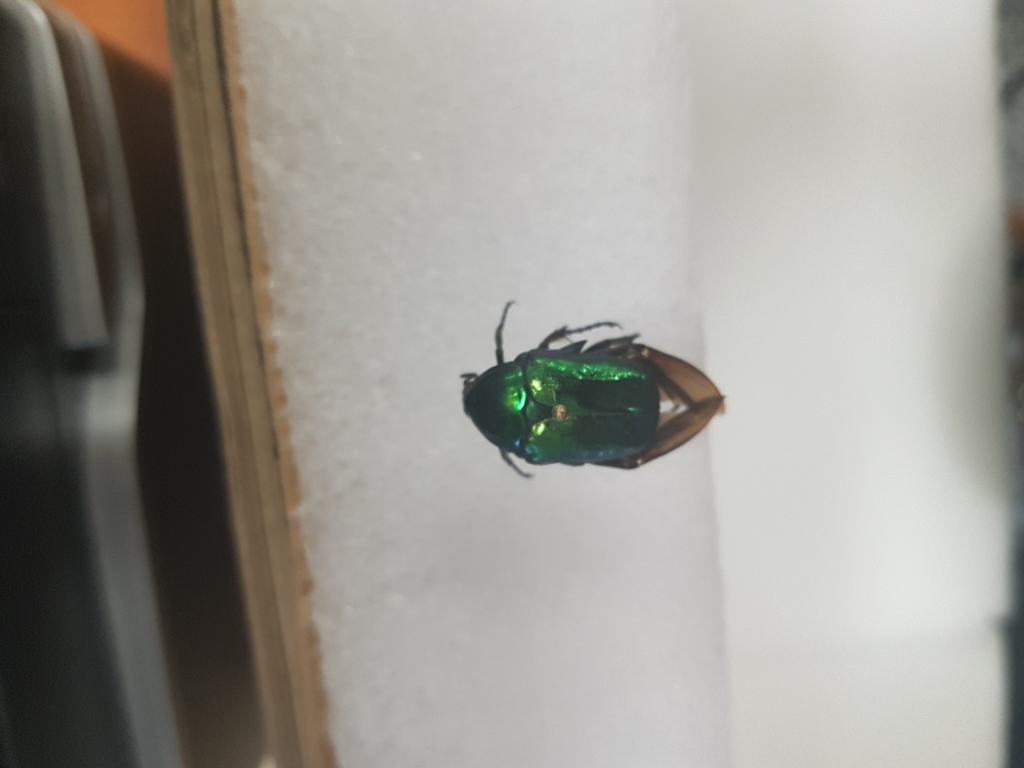Protaetia_angustata_angustata: (460, 297, 734, 486)
